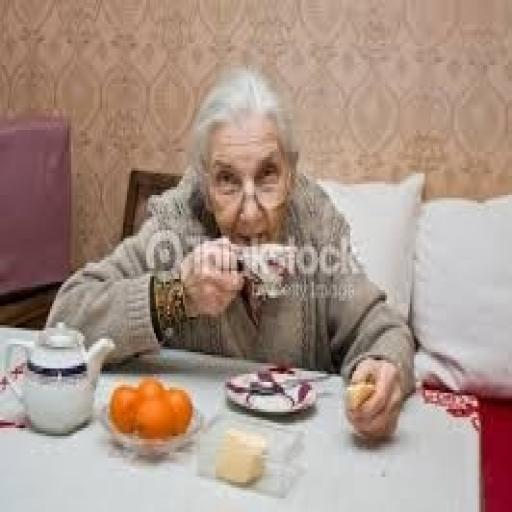drinking: (152, 90, 392, 400)
